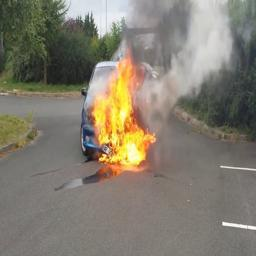fire: (91, 45, 158, 166)
